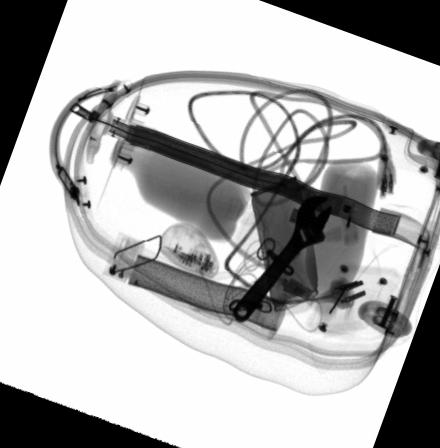Wrench: (232, 194, 333, 323)
